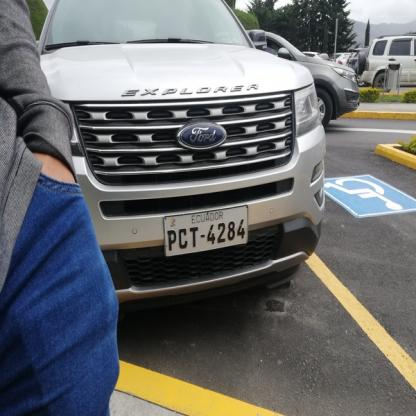Placa: (156, 206, 253, 256)
